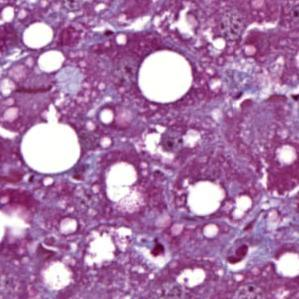steatosis: (135, 48, 197, 106), (21, 121, 85, 177), (183, 178, 228, 216)
